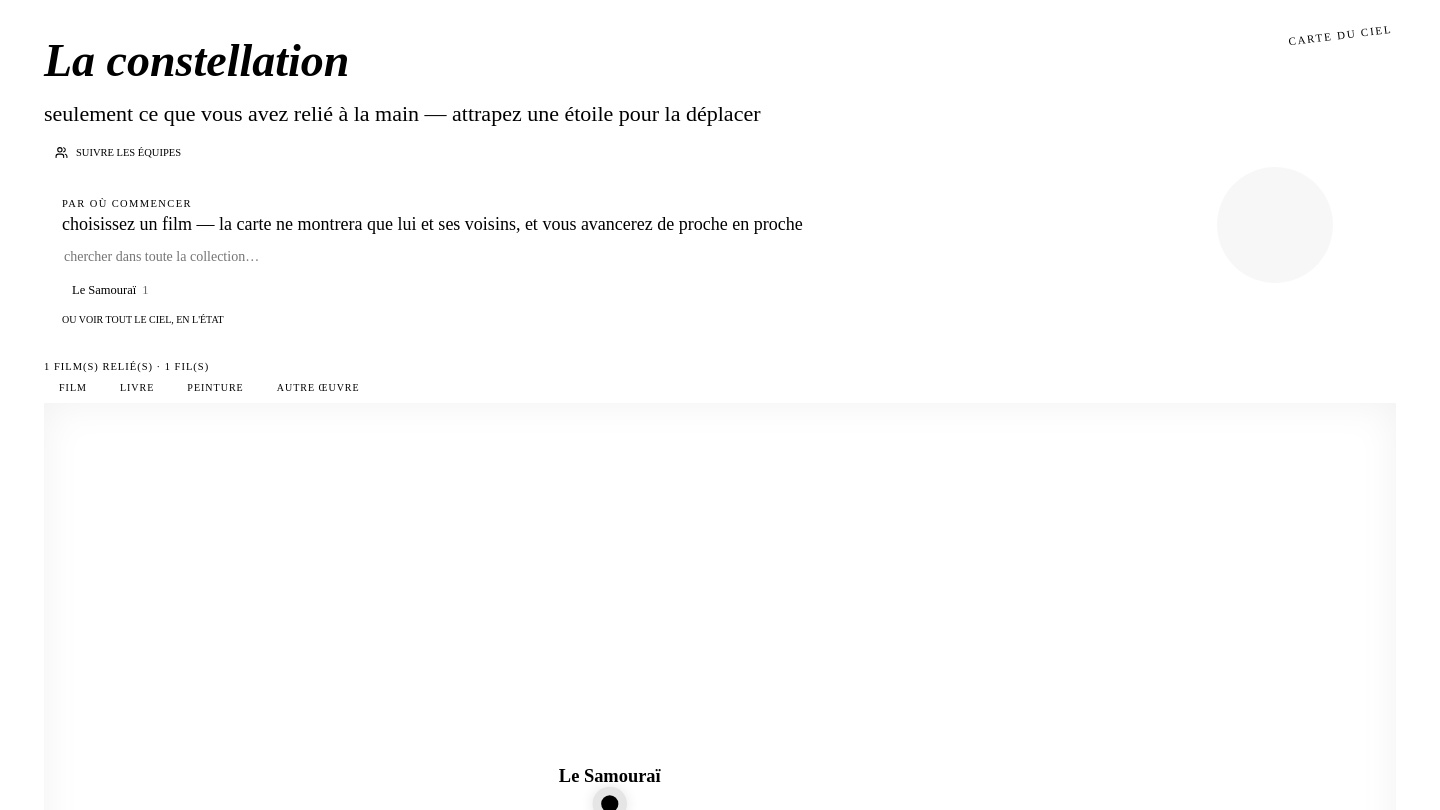
Test: the constellation's search › finds a film nothing links, and marks it off the map
The width and height of the screenshot is (1440, 810).
Type "playtime" into the field with placeholder "chercher dans toute la collection…" at (222, 257), box [62,245,382,269]
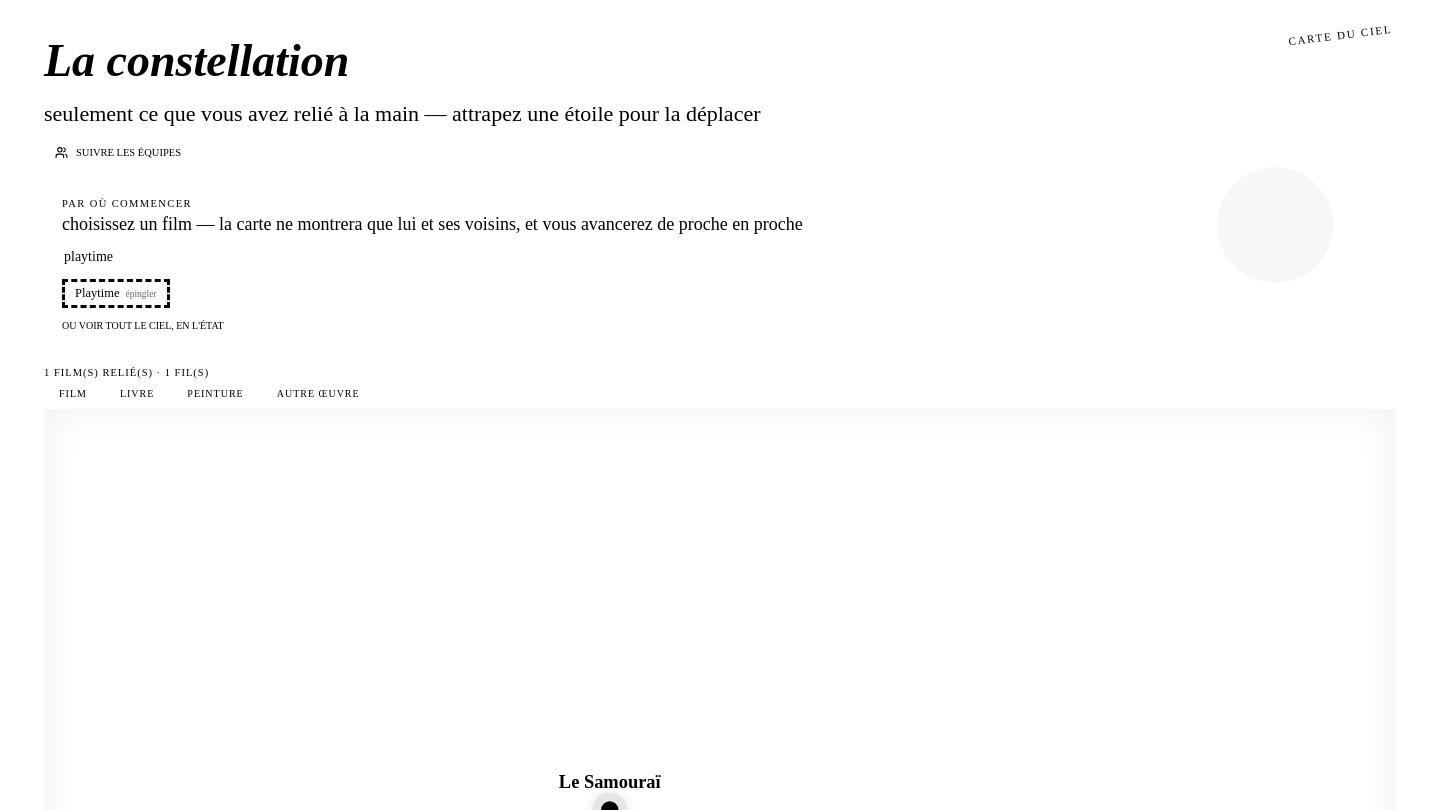
Check: the button "Playtime" is shown, box [62,279,170,308]
Check: the text "épingler" is shown, box [126,289,157,299]
